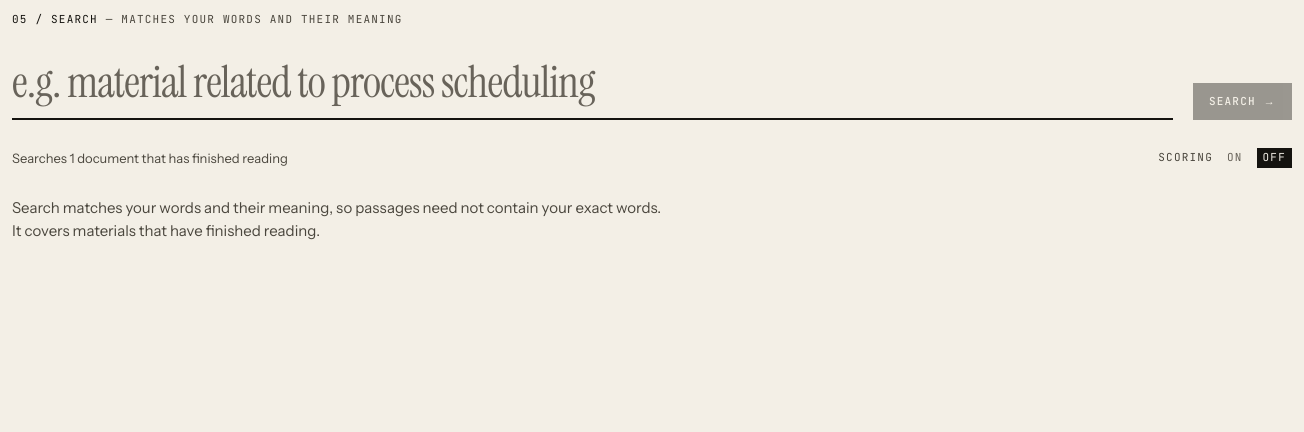
Scenario: Search › says nothing answers the query, and what to try instead
The width and height of the screenshot is (1304, 432).
Expected: the text "Searches 1 document that has finished reading" is shown, top-left (12, 149), bottom-right (288, 167)
Step 1. Type "how does round robin pick" into the search field named "Search this environment's materials" → (592, 88), box top-left (12, 55), bottom-right (1173, 120)
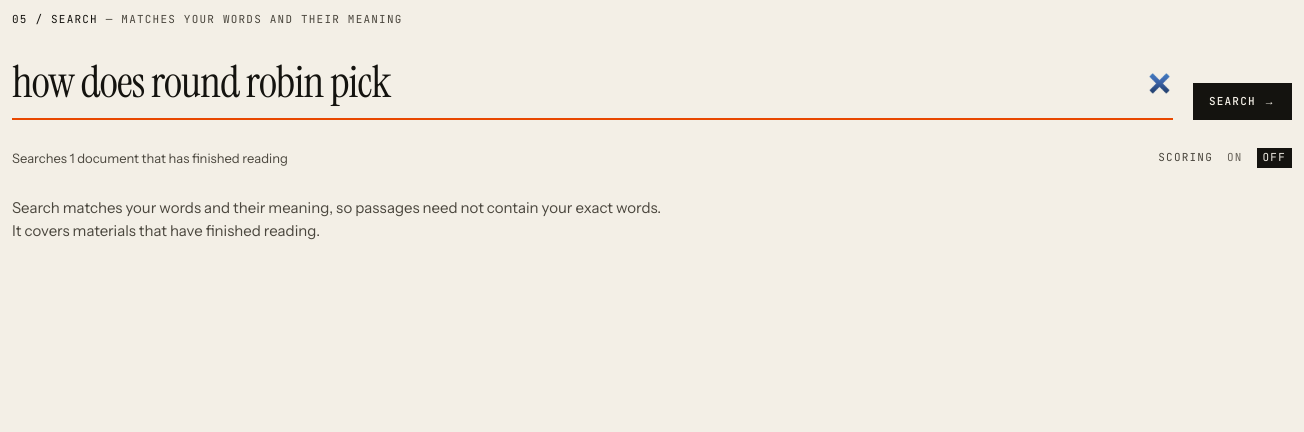
Step 2. Click the button "Search →" → click(1242, 102), box top-left (1193, 83), bottom-right (1292, 120)
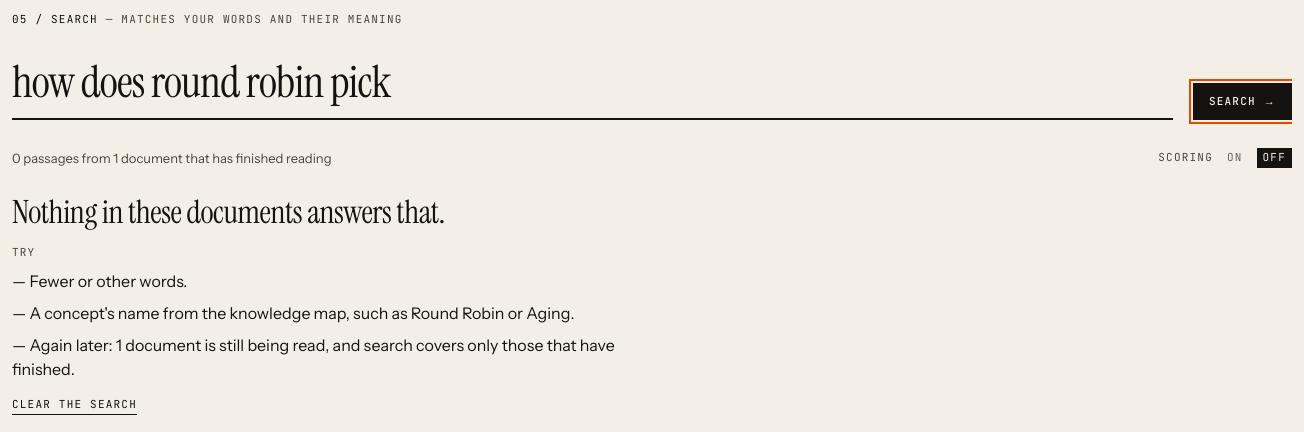
Now the heading "Nothing in these documents answers that." is shown, box top-left (12, 196), bottom-right (445, 229)
Now the text "0 passages from 1 document that has finished reading" is shown, box top-left (12, 149), bottom-right (332, 167)
Now the list item "A concept's name from the knowledge map, such as Round Robin or Aging." is shown, box top-left (12, 301), bottom-right (672, 325)
Step 3. Click the button "Clear the search" → click(74, 406), box top-left (12, 397), bottom-right (137, 415)
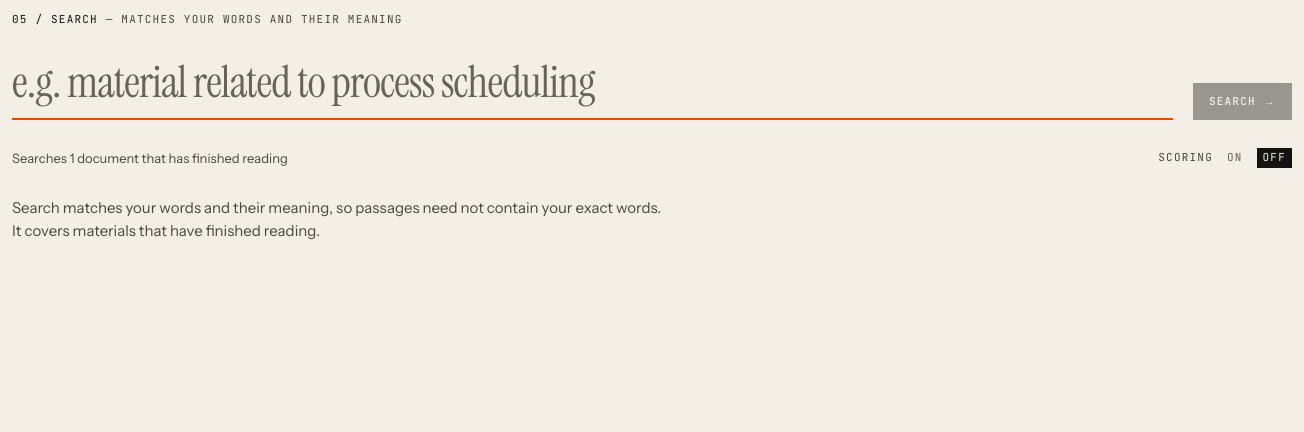
Now the search field named "Search this environment's materials" is empty, box top-left (12, 55), bottom-right (1173, 120)
Now the heading "Nothing in these documents answers that." is gone
